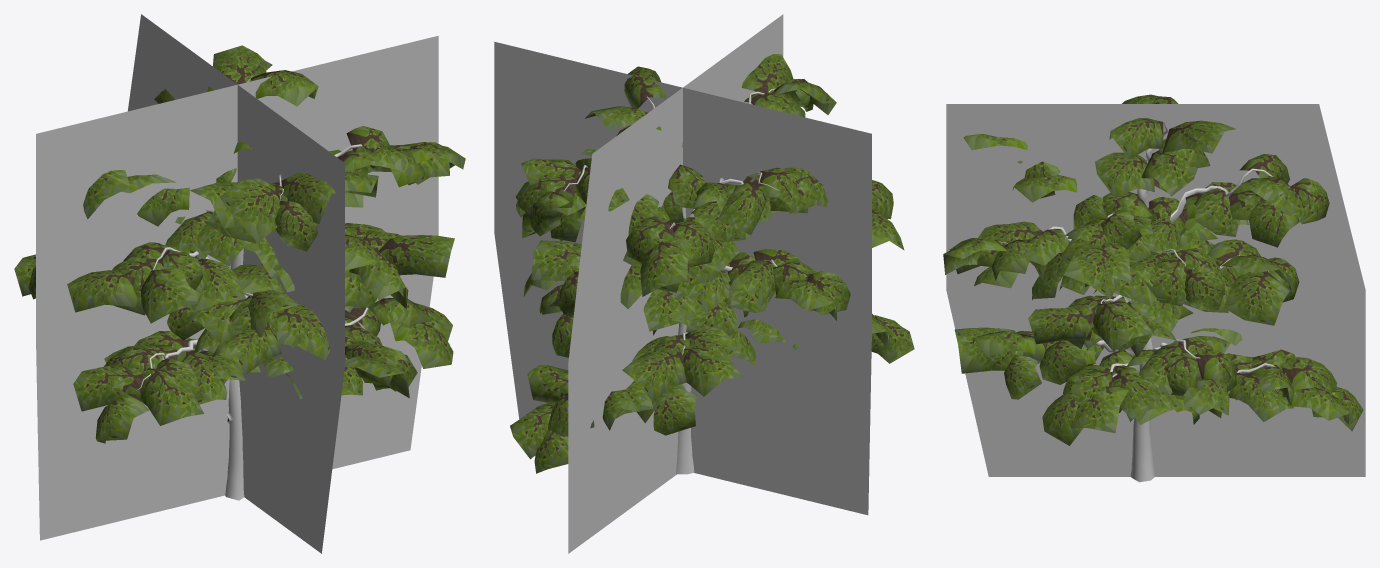
File: Mango2.fbx
The picture shows the model from 3 angles, left to right: view 1: azimuth 30°, elevation 25°; view 2: azimuth 150°, elevation 25°; view 3: azimuth 270°, elevation 25°; orthographic projection. The views are drawn at different scales.
Visible parts, largest first — view 1: Billboard, LOD0; view 2: Billboard, LOD0; view 3: LOD0, Billboard.
Part boxes in pixels (bbox=[...]): Billboard: bbox=[36, 14, 438, 553]; LOD0: bbox=[14, 45, 465, 500]; Billboard: bbox=[494, 14, 871, 553]; LOD0: bbox=[510, 54, 914, 474]; LOD0: bbox=[943, 94, 1363, 482]; Billboard: bbox=[946, 104, 1365, 476].
Size of what is drawn, in the model's own units: 529 by 516 by 525.
